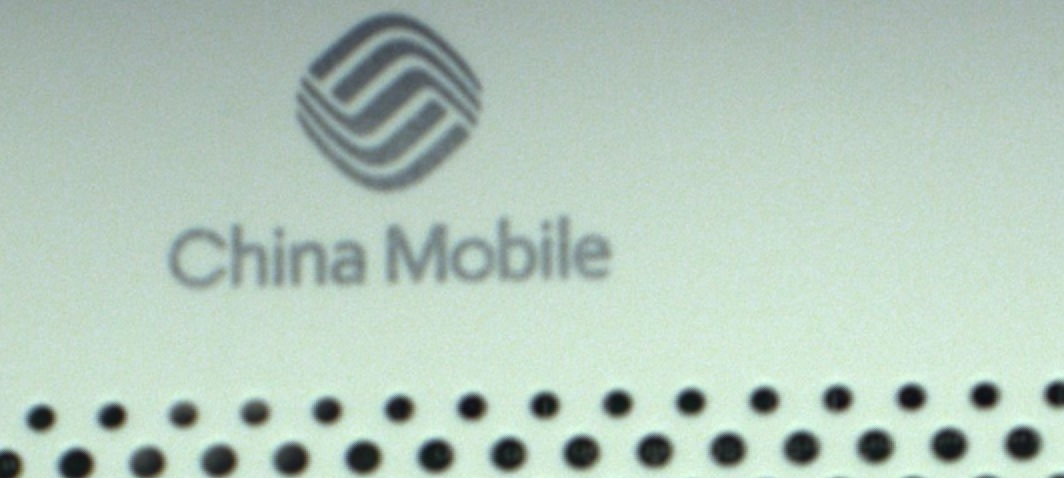AA_ChinaMobile: (159, 11, 618, 304)
